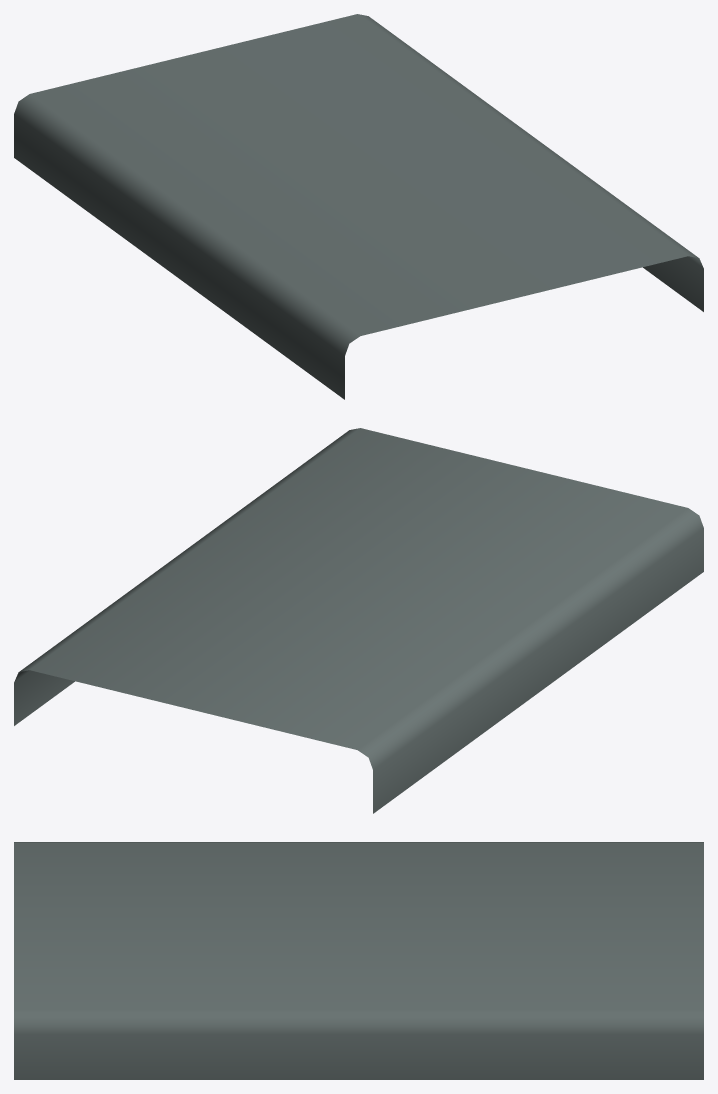
Rendered from road_01_straight.fbx.
3 views of the same model, one above another, from view 1: azimuth 30°, elevation 25°; view 2: azimuth 150°, elevation 25°; view 3: azimuth 270°, elevation 25° (orthographic). The views are drawn at different scales.
Visible parts, largest first — view 1: road_01_straight; view 2: road_01_straight; view 3: road_01_straight.
Part boxes in pixels (bbox=[...]): road_01_straight: bbox=[14, 14, 703, 399]; road_01_straight: bbox=[14, 428, 703, 813]; road_01_straight: bbox=[14, 842, 703, 1079].
Bounding box in the file's own units: 12.53 × 2 × 19.99.
